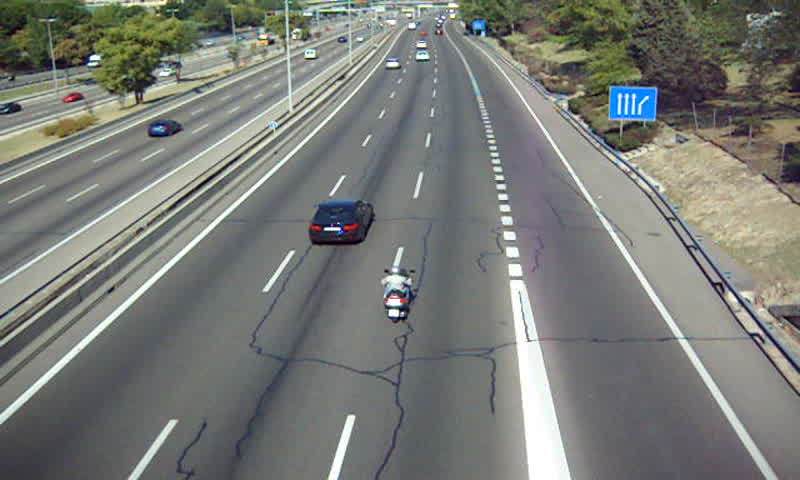car: (309, 198, 374, 243), (413, 51, 432, 62), (386, 56, 399, 70)
motorcycle: (379, 265, 415, 324)
